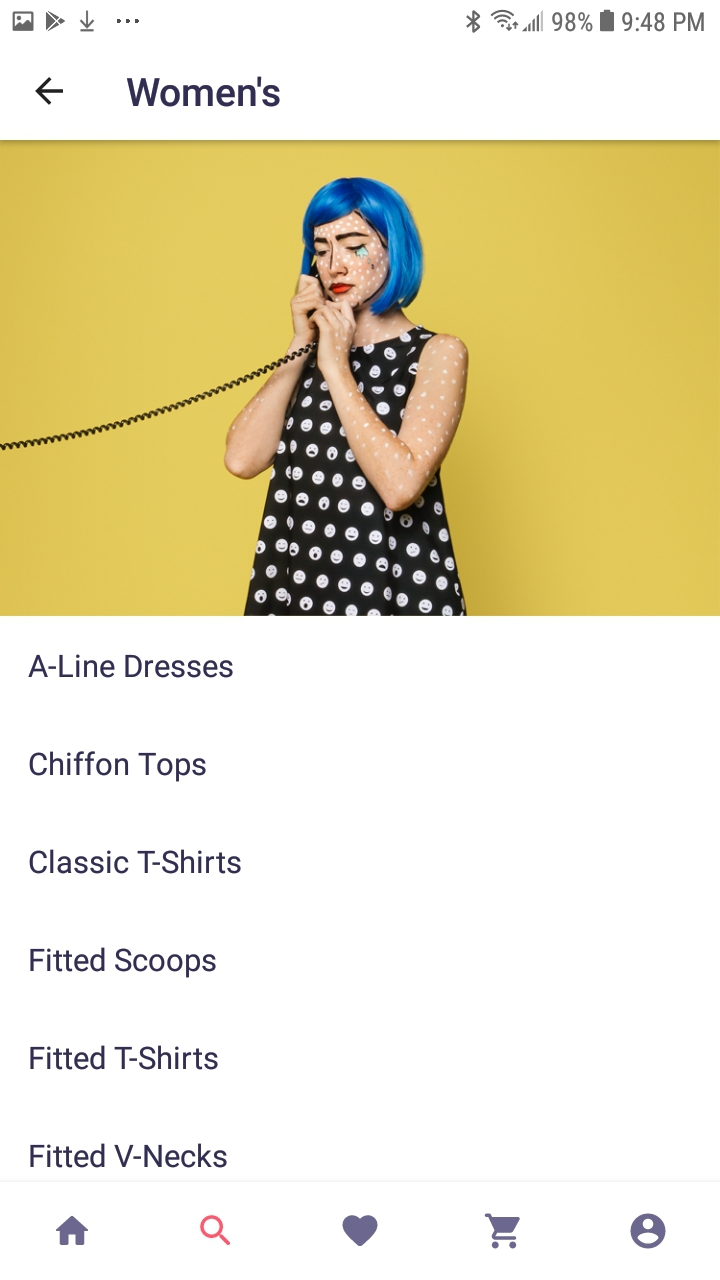Icon: (630, 1212, 667, 1249), (485, 1212, 521, 1249), (342, 1214, 379, 1247), (56, 1216, 89, 1246), (200, 1215, 231, 1246), (35, 77, 64, 106)
Image: (1, 141, 720, 617)
Text: (30, 946, 217, 979), (30, 750, 207, 783), (30, 849, 242, 875), (29, 654, 235, 679), (30, 1143, 228, 1169), (30, 1044, 219, 1071), (127, 77, 281, 108)
UpperTaskBar: (1, 1, 720, 35)
